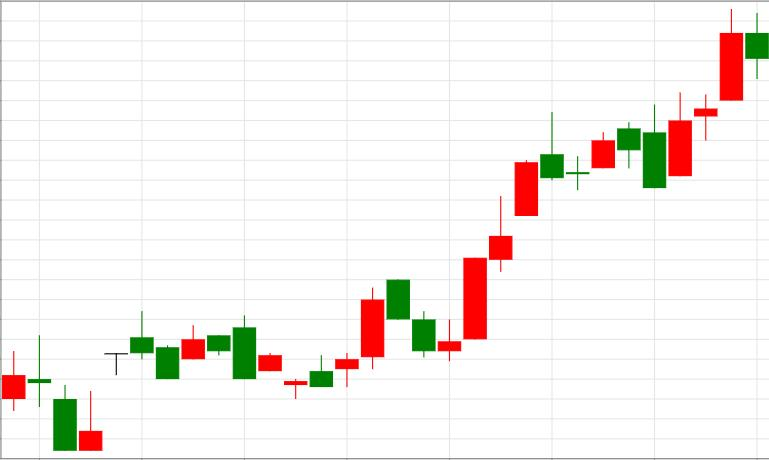shooting_star_fall: (438, 112, 564, 362)
